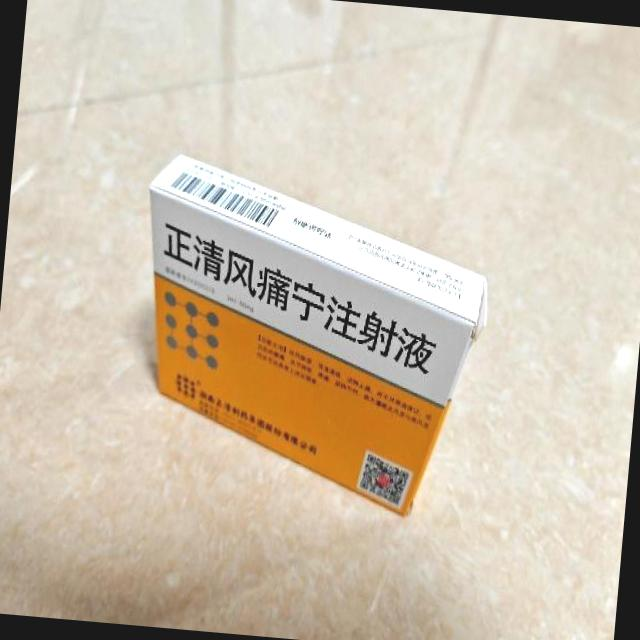box: (120, 149, 498, 524)
